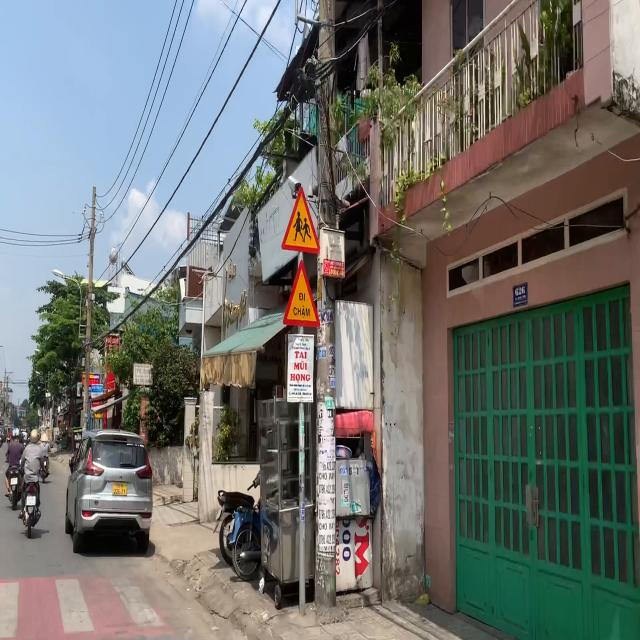Nguy hiem: (280, 183, 322, 257), (282, 253, 323, 328)
